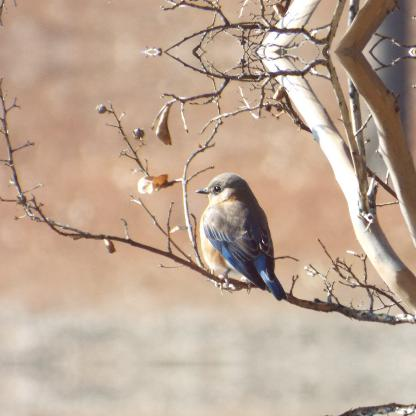Bird: (188, 181, 298, 304)
